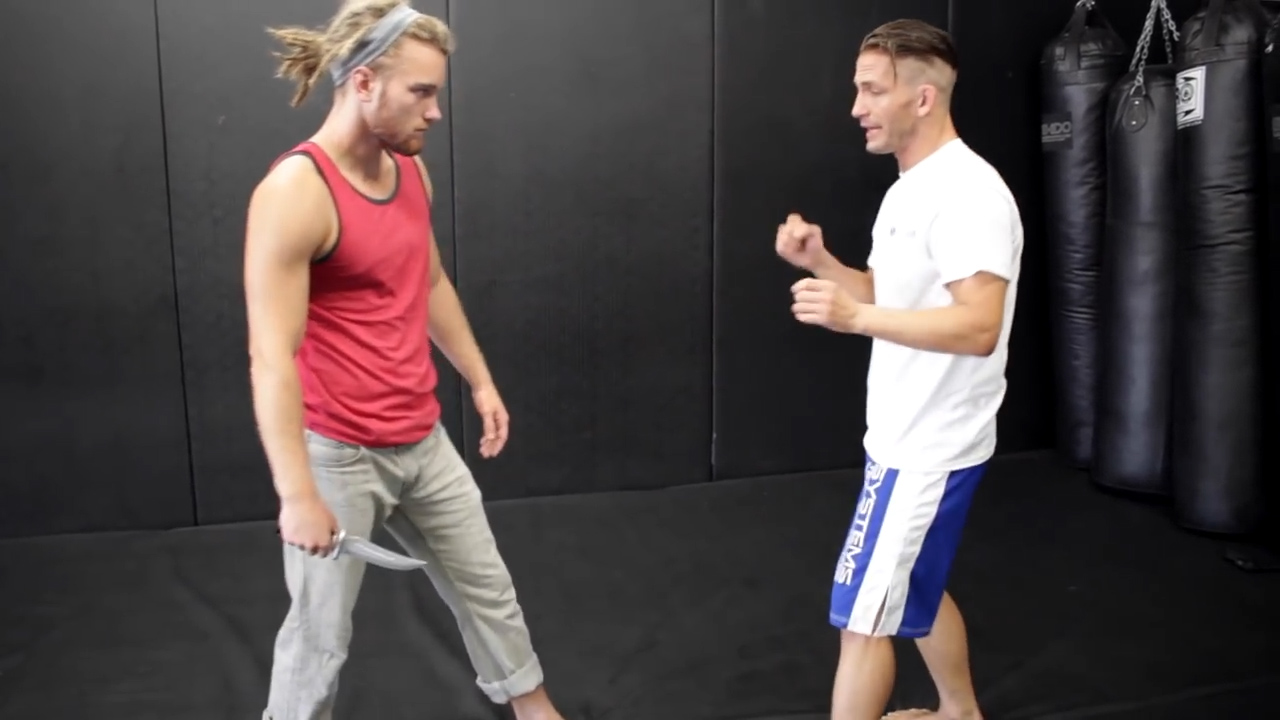knife: (267, 507, 438, 585)
